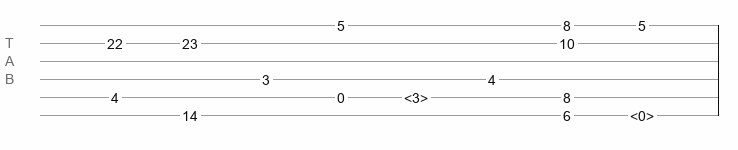0: (337, 90, 345, 100)
10: (559, 36, 575, 46)
14: (182, 108, 198, 118)
22: (107, 36, 123, 46)
23: (182, 36, 198, 46)
3: (262, 72, 270, 82)
4: (111, 90, 119, 100), (488, 72, 496, 82)
5: (337, 18, 345, 28), (638, 18, 646, 28)
6: (563, 108, 571, 118)
8: (563, 90, 571, 100), (563, 18, 571, 28)
harmonic: (404, 90, 428, 100), (630, 108, 654, 118)
